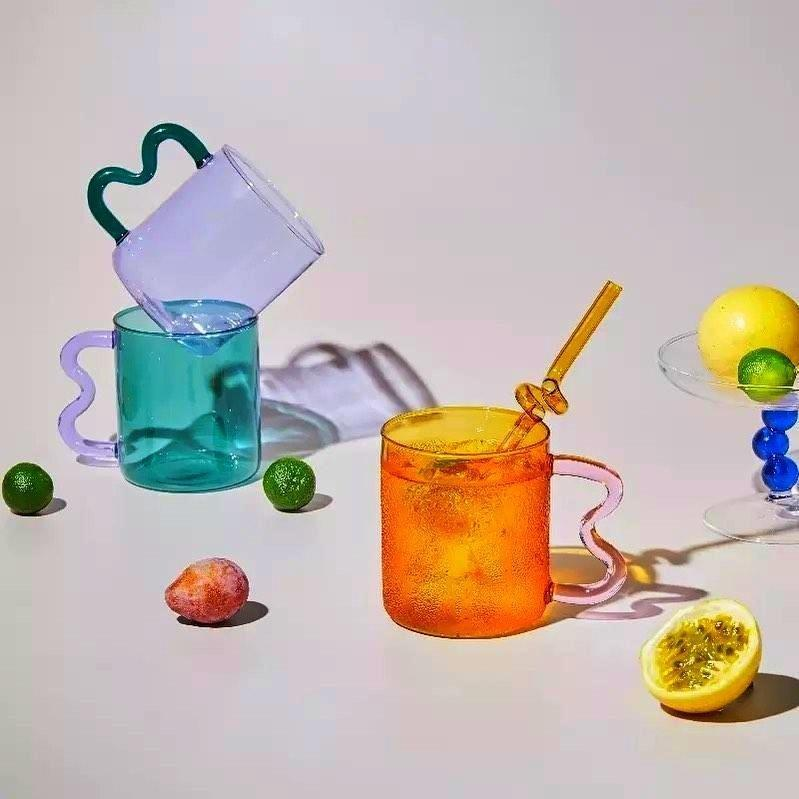glass-mug: (370, 402, 628, 642), (77, 117, 329, 348), (57, 292, 271, 497)
